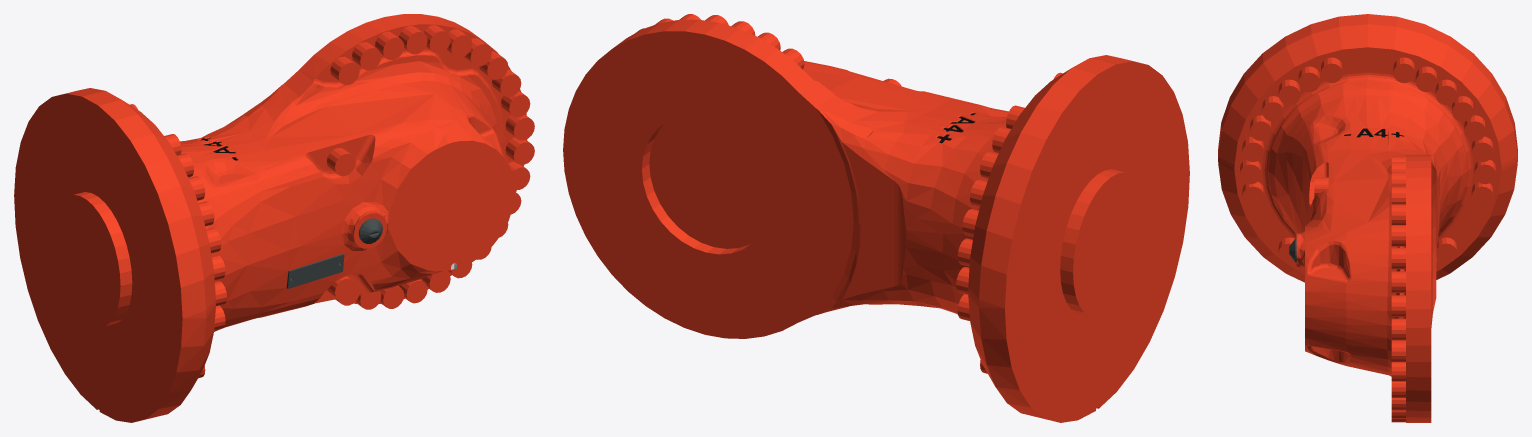
The picture shows the model from 3 angles, left to right: view 1: azimuth 30°, elevation 25°; view 2: azimuth 150°, elevation 25°; view 3: azimuth 270°, elevation 25°; orthographic projection. The views are drawn at different scales.
Visible parts, largest first — view 1: link_4; view 2: link_4; view 3: link_4.
Boxes of the visible parts, x1,y1,x2,y2 form: link_4: (14,14,534,422); link_4: (563,14,1189,422); link_4: (1218,14,1517,422).
Size of the model in its own units: 0.3932 by 0.248 by 0.248.
